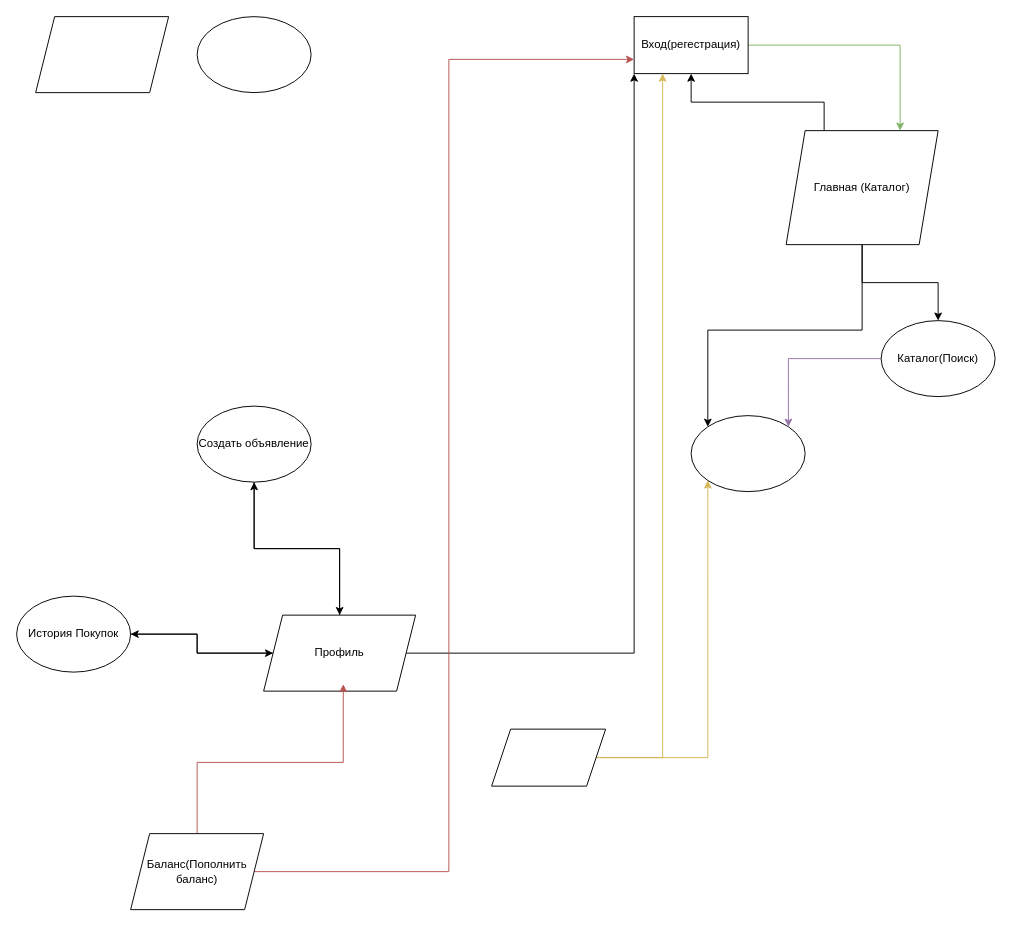
This 1012x926 diagram has some shape labels left out. The shapes that lost their labels are listed below. From the top down, each one's centre as x and y in pixels, then its label:
(x=102, y=54): МОЖНО ЗАЙТИ З ЛЮБОЙ, КРОМЕ КВАДРАТНОЙ
(x=253, y=54): МОЖНО ЗАЙТИ ИЗ ОПРЕДЕЛЁННЫХ
(x=747, y=453): Объявление
(x=548, y=757): Чаты
